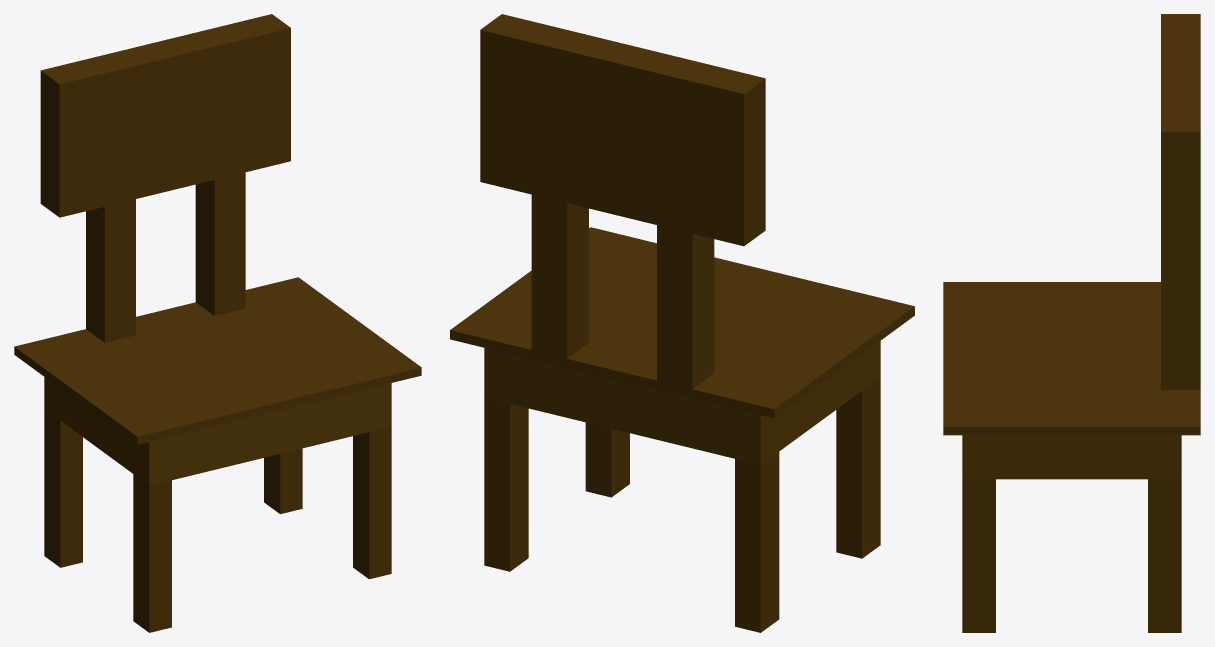
The model's file is Chair.fbx.
The picture shows the model from 3 angles, left to right: view 1: azimuth 30°, elevation 25°; view 2: azimuth 150°, elevation 25°; view 3: azimuth 270°, elevation 25°; orthographic projection. The views are drawn at different scales.
Parts seen in each view (by area): view 1: Chair; view 2: Chair; view 3: Chair.
Part boxes in pixels (x1,y1,x2,y2): Chair: [14, 14, 421, 632]; Chair: [450, 14, 914, 632]; Chair: [943, 14, 1200, 632].
Size of the model in its own units: 454 by 729 by 341.
